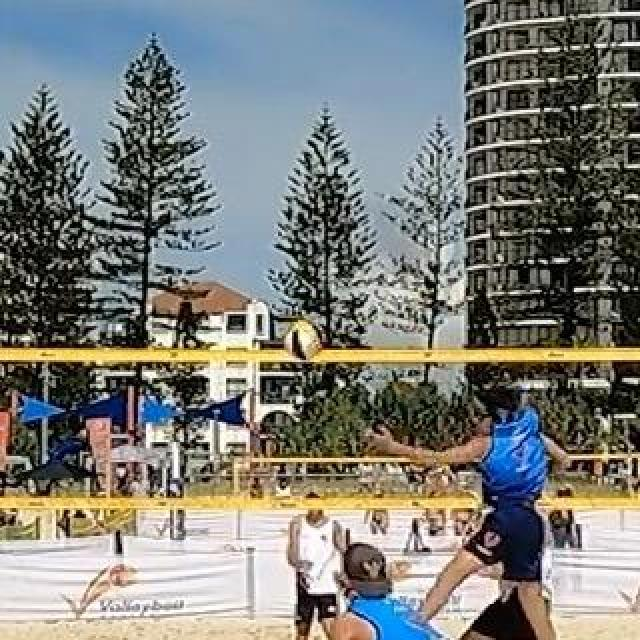volleyball: (283, 326, 319, 358)
